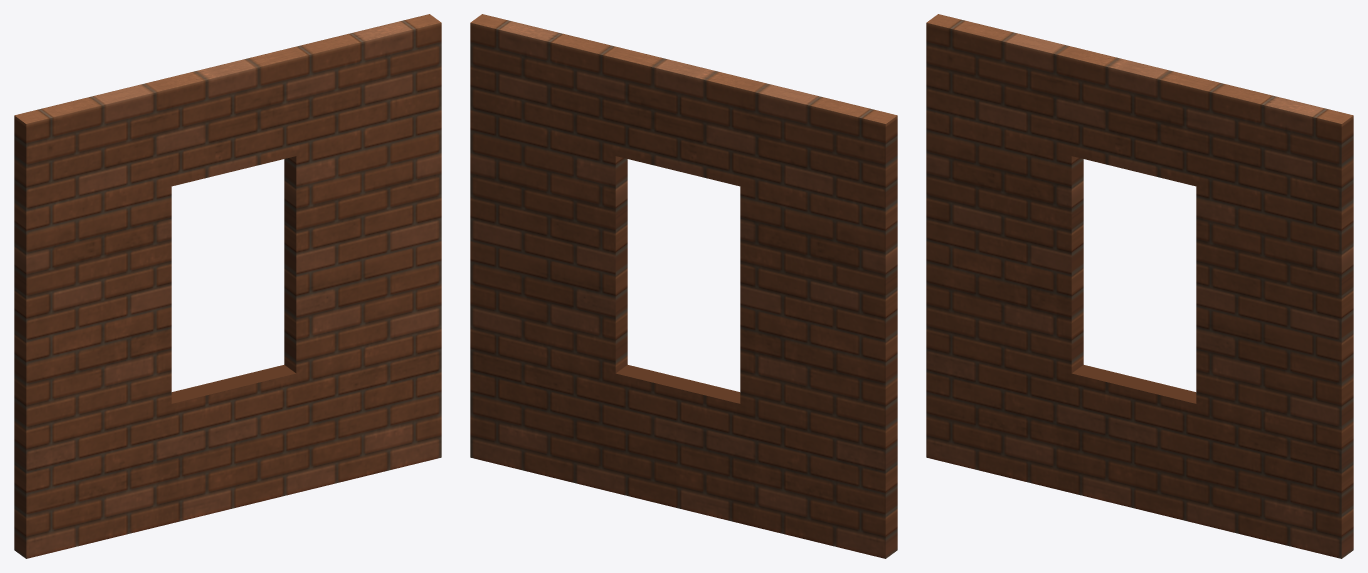
Rendered from wall5_4.fbx.
3 renders of one model, left to right at view 1: azimuth 30°, elevation 25°; view 2: azimuth 150°, elevation 25°; view 3: azimuth 330°, elevation 25°, orthographic.
Visible parts, largest first — view 1: wall5_brick_red_d; view 2: wall5_brick_red_d; view 3: wall5_brick_red_d.
Boxes of the visible parts, box(x1,y1,x2,y2) form: wall5_brick_red_d: box(14, 14, 441, 558); wall5_brick_red_d: box(470, 14, 897, 558); wall5_brick_red_d: box(926, 14, 1353, 558).
Bounding box in the file's own units: 400 × 400 × 20.
